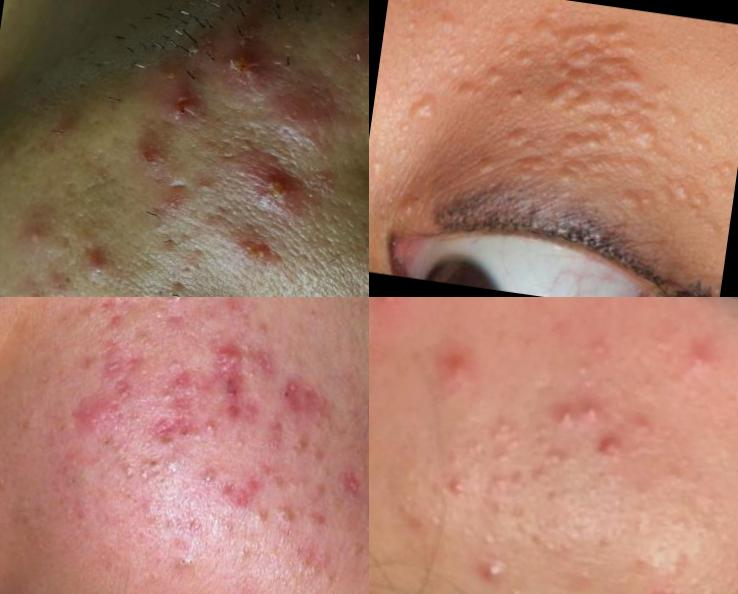acne_scars: (149, 360, 263, 424), (221, 472, 274, 522), (67, 394, 120, 439)
cystic: (255, 164, 304, 214), (279, 93, 323, 144), (222, 49, 275, 91)
flat_wart: (600, 84, 723, 176), (552, 111, 668, 196), (539, 61, 659, 131), (548, 15, 646, 81), (470, 120, 553, 196), (457, 42, 544, 113), (618, 173, 717, 235), (405, 94, 447, 129)
milium: (370, 143, 396, 193)
papular: (680, 315, 727, 383), (438, 334, 483, 400), (72, 241, 127, 291), (126, 134, 175, 182), (594, 434, 634, 477), (633, 575, 685, 594), (374, 298, 403, 316)
purulent: (15, 214, 65, 258), (163, 298, 206, 319)
sebo-crystan-conglo: (272, 371, 320, 429), (295, 550, 354, 591), (233, 230, 285, 274), (208, 335, 256, 382), (169, 537, 211, 582), (265, 493, 301, 528), (349, 483, 370, 538)
whitehead: (477, 530, 528, 594), (115, 447, 173, 496), (181, 413, 229, 452), (185, 454, 229, 496), (441, 468, 480, 512), (549, 398, 587, 441), (460, 434, 502, 466), (488, 413, 524, 446), (277, 472, 316, 502), (580, 390, 608, 424), (285, 435, 313, 465), (146, 303, 176, 330), (719, 560, 738, 594)
